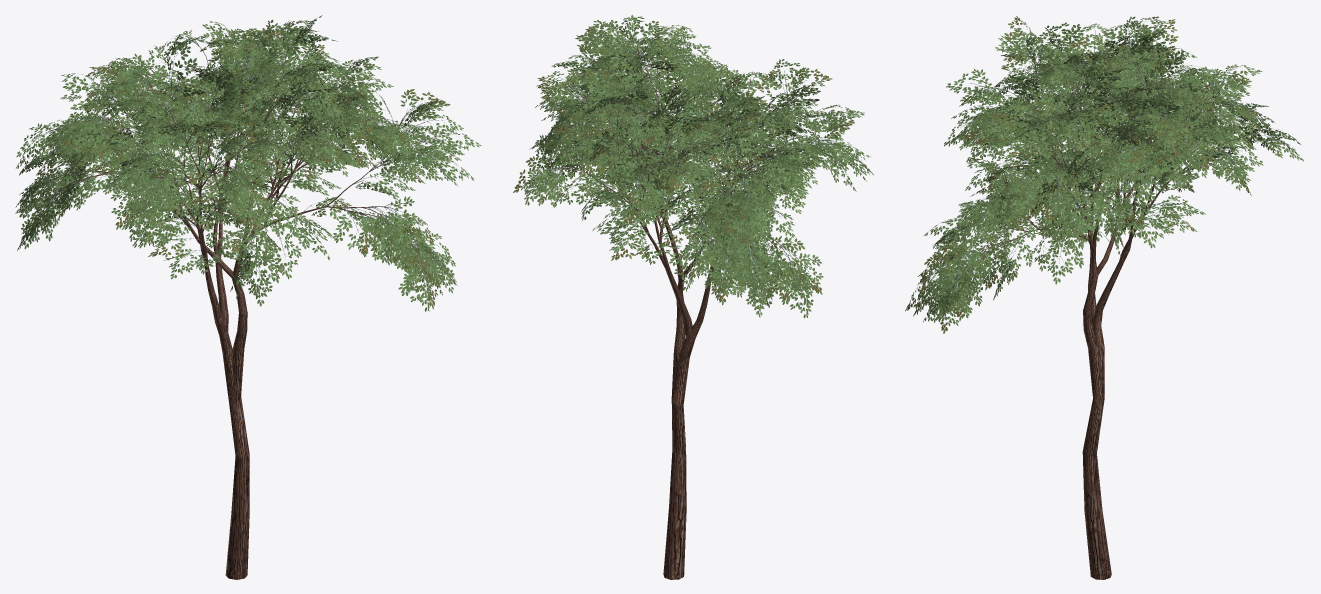
File: tree01.fbx
3 renders of one model, left to right at view 1: azimuth 30°, elevation 25°; view 2: azimuth 150°, elevation 25°; view 3: azimuth 270°, elevation 25°, orthographic. The views are drawn at different scales.
Visible parts, largest first — view 1: polySurface1; view 2: polySurface1; view 3: polySurface1.
Part boxes in pixels (box(x1,y1,x2,y2)): polySurface1: box(15, 15, 481, 579); polySurface1: box(513, 15, 873, 579); polySurface1: box(905, 16, 1303, 579).
Bounding box in the file's own units: 582 × 844 × 568.
